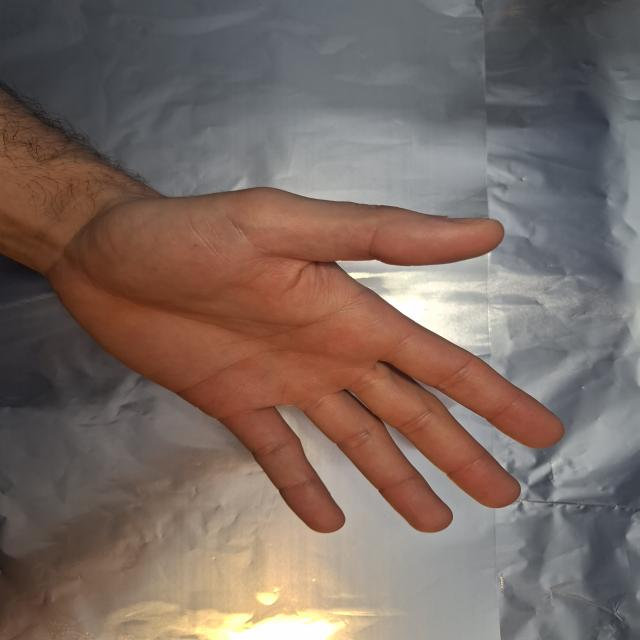glove_off: (25, 153, 570, 536)
